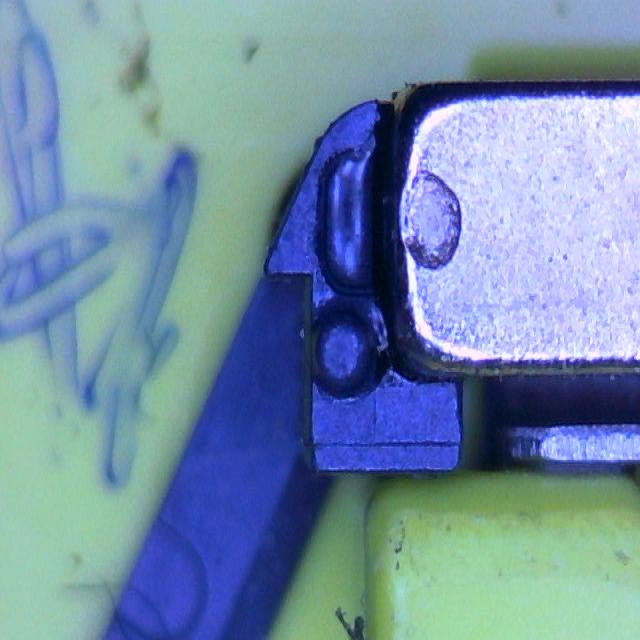over: (316, 143, 389, 298)
